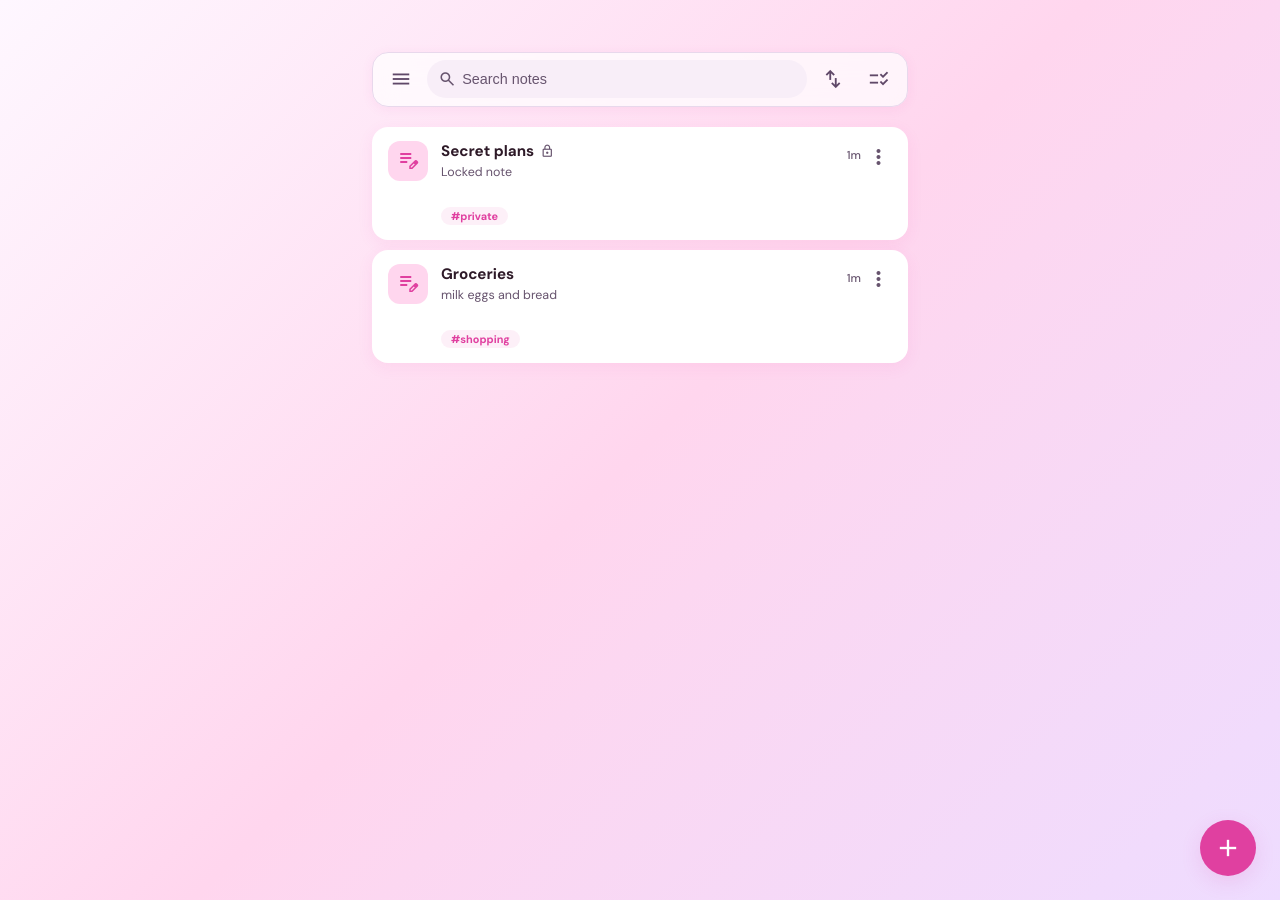
Test: search › uses the singular for a single hidden note
The image size is (1280, 900).
Type "zzz" into the field with class "search" at (629, 79), box [462,60,796,98]
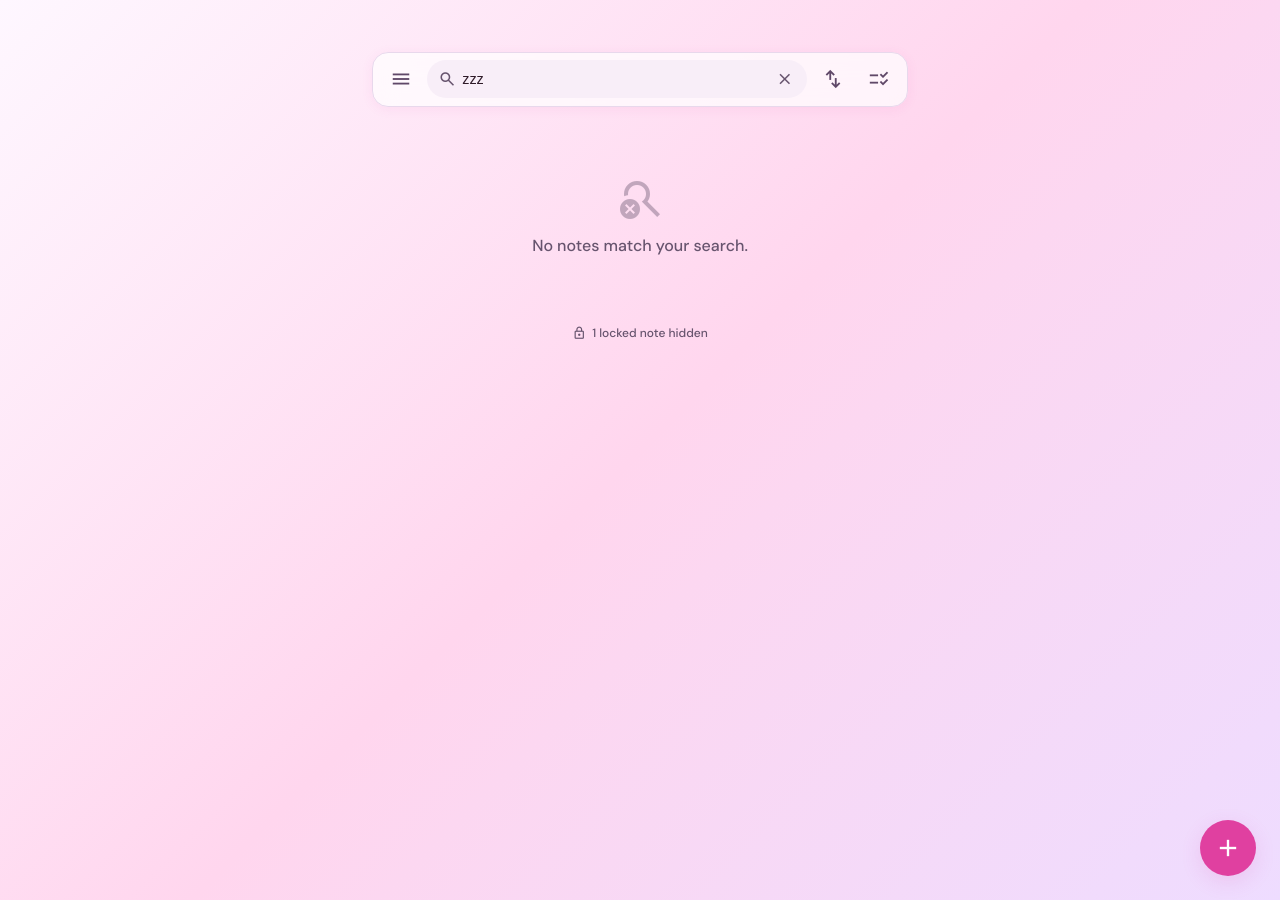
Expected: the text "1 locked note hidden" is shown, [592,325,708,341]
